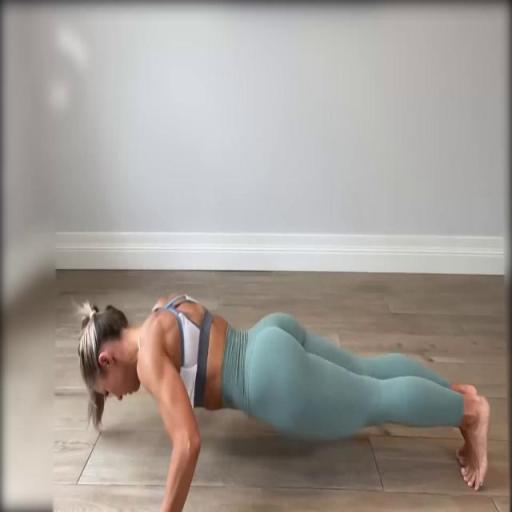Normal_BrenchPress: (76, 294, 492, 511)
